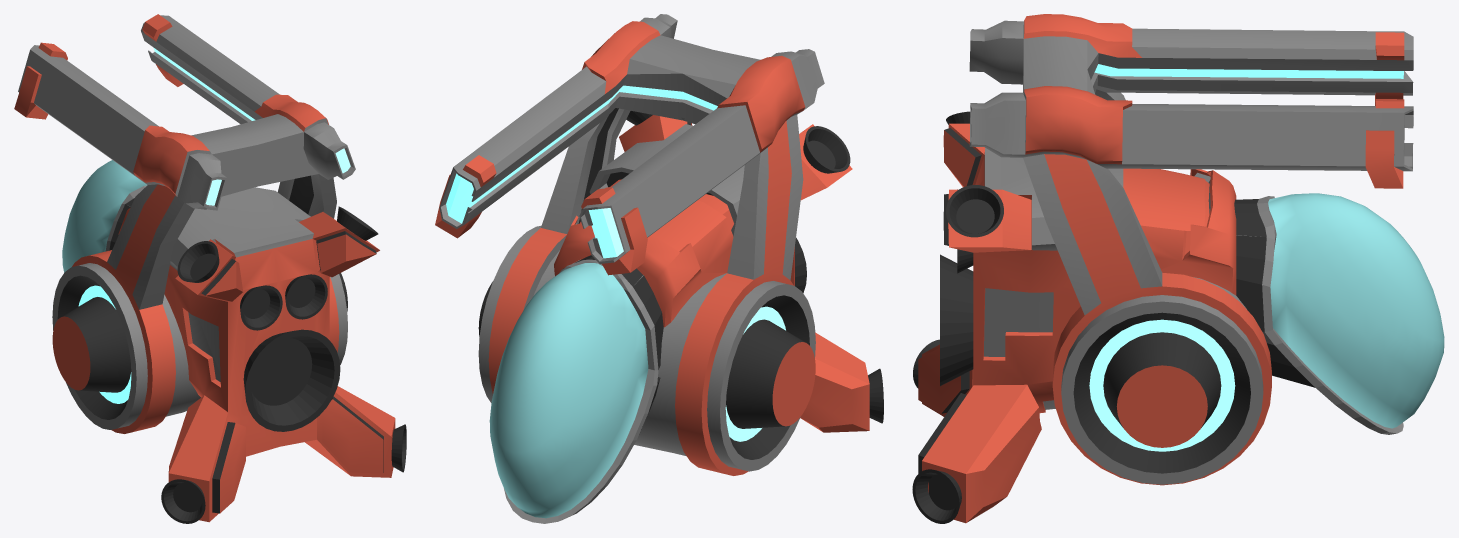
File: S-Type.glb
The picture shows the model from 3 angles, left to right: view 1: azimuth 30°, elevation 25°; view 2: azimuth 150°, elevation 25°; view 3: azimuth 270°, elevation 25°; orthographic projection. The views are drawn at different scales.
Parts seen in each view (by area): view 1: Cylinder.001, Cube, Cylinder, Cylinder.002, Sphere, Cylinder.007, Cylinder.003, Cylinder.004, Cylinder.005, Cylinder.006, Cylinder.008; view 2: Cylinder.001, Sphere, Cylinder, Cube, Cylinder.005, Cylinder.007; view 3: Cylinder.001, Cube, Sphere, Cylinder, Cylinder.002, Cylinder.006, Cylinder.008.
Boxes of the visible parts, left/top/right/bottom form: Cylinder.001: left=14, top=14, right=355, bottom=433; Cube: left=118, top=187, right=395, bottom=522; Cylinder: left=52, top=263, right=347, bottom=429; Cylinder.002: left=243, top=329, right=340, bottom=431; Sphere: left=62, top=160, right=147, bottom=272; Cylinder.007: left=161, top=479, right=205, bottom=523; Cylinder.003: left=240, top=285, right=282, bottom=330; Cylinder.004: left=285, top=274, right=327, bottom=319; Cylinder.005: left=177, top=241, right=219, bottom=282; Cylinder.006: left=337, top=206, right=378, bottom=240; Cylinder.008: left=391, top=424, right=406, bottom=472; Cylinder.001: left=435, top=14, right=824, bottom=475; Sphere: left=489, top=255, right=663, bottom=523; Cylinder: left=478, top=225, right=815, bottom=471; Cube: left=554, top=115, right=869, bottom=432; Cylinder.005: left=803, top=126, right=850, bottom=173; Cylinder.007: left=868, top=368, right=883, bottom=423; Cylinder.001: left=969, top=14, right=1413, bottom=485; Cube: left=918, top=123, right=1236, bottom=523; Sphere: left=1234, top=193, right=1444, bottom=434; Cylinder: left=1061, top=277, right=1263, bottom=484; Cylinder.002: left=940, top=254, right=973, bottom=386; Cylinder.006: left=946, top=185, right=1003, bottom=237; Cylinder.008: left=912, top=469, right=961, bottom=523.
Size of the model in its own units: 3.69 by 4.62 by 5.49.
